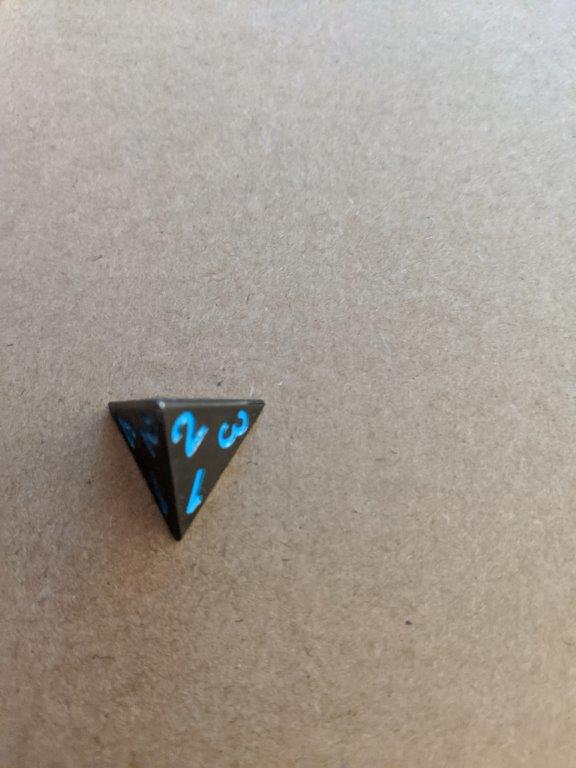d4-2: (101, 397, 272, 544)
